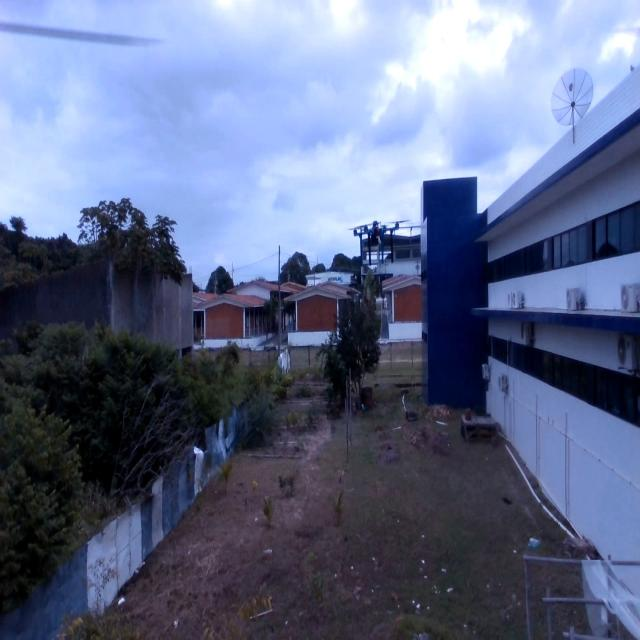-uav-: (345, 212, 409, 281)
